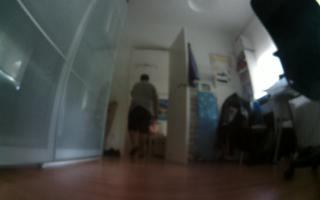person: (126, 72, 159, 163), (148, 116, 160, 164)
